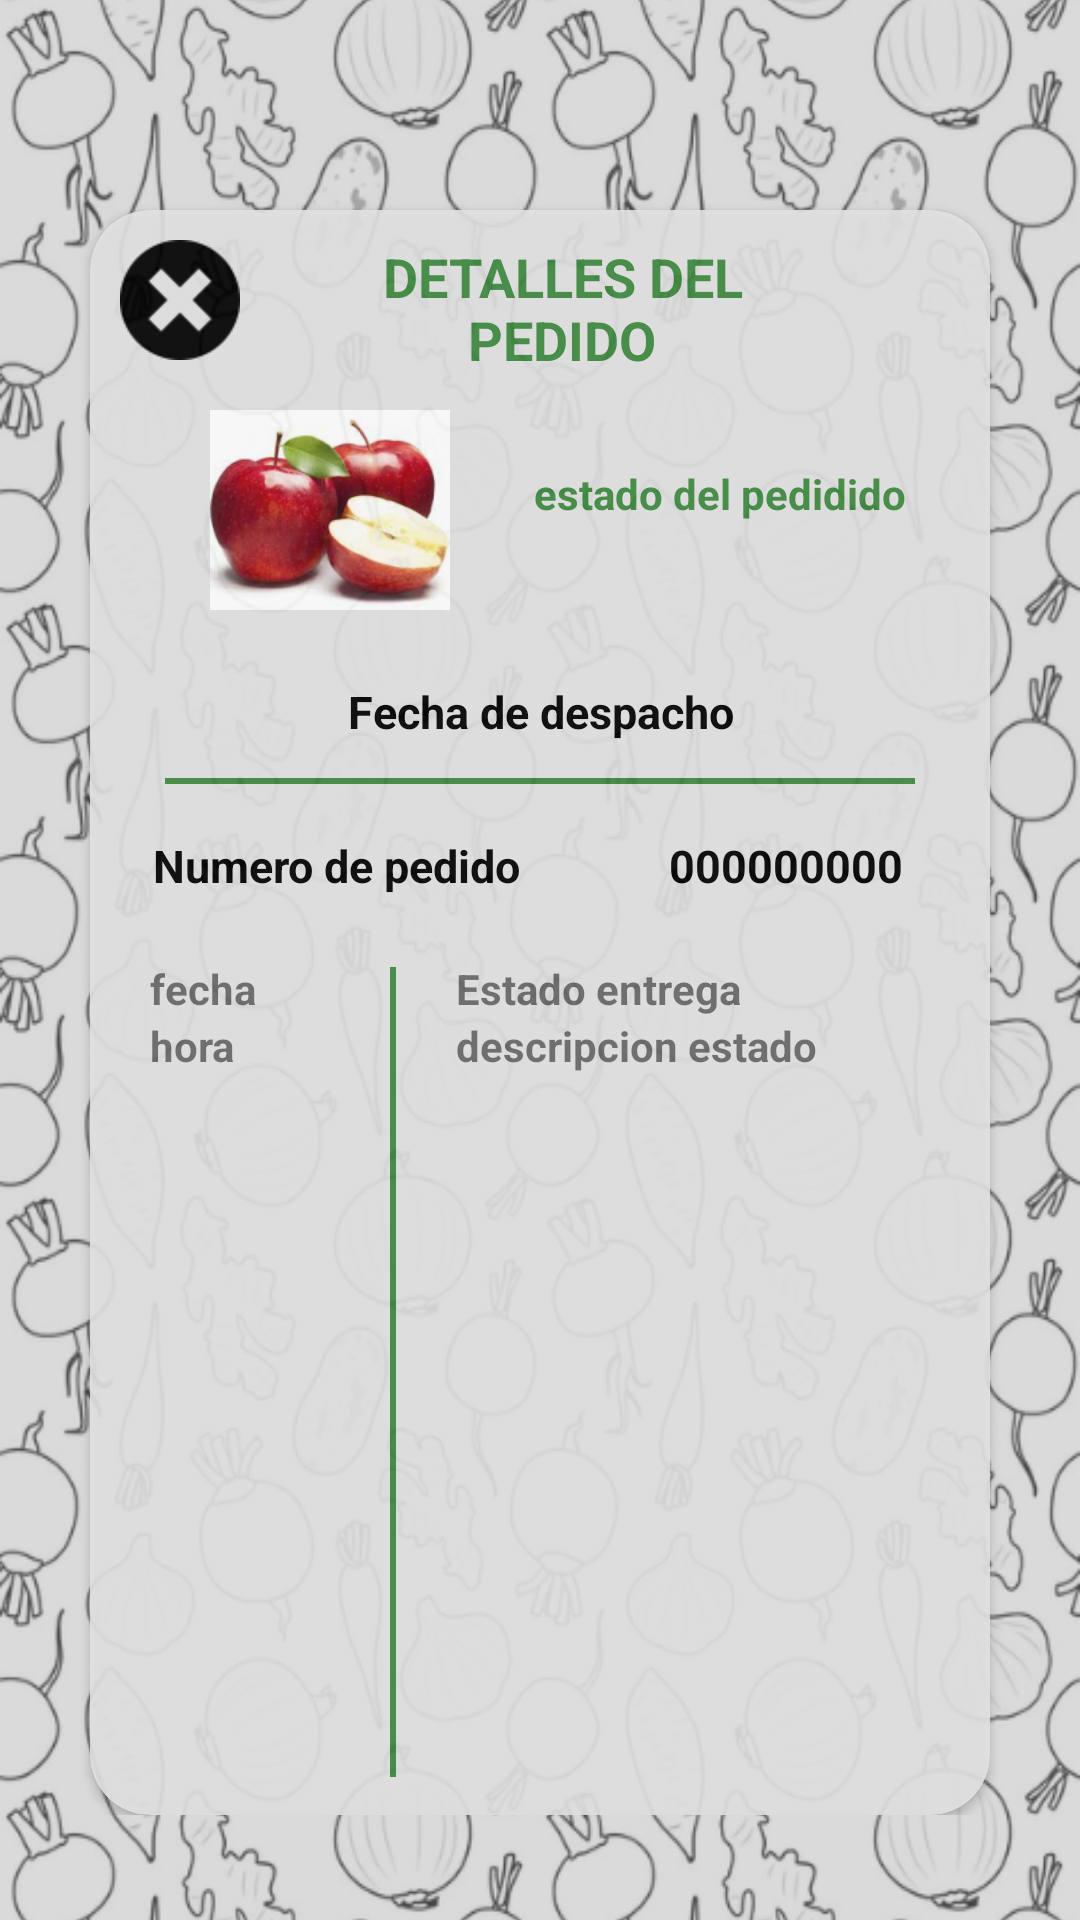

Icons on this 1080x1920 Android screen, each with its box as (x1, y1, x2, y2):
cerrar: (120, 240, 240, 360)
manzanas: (210, 410, 450, 610)
